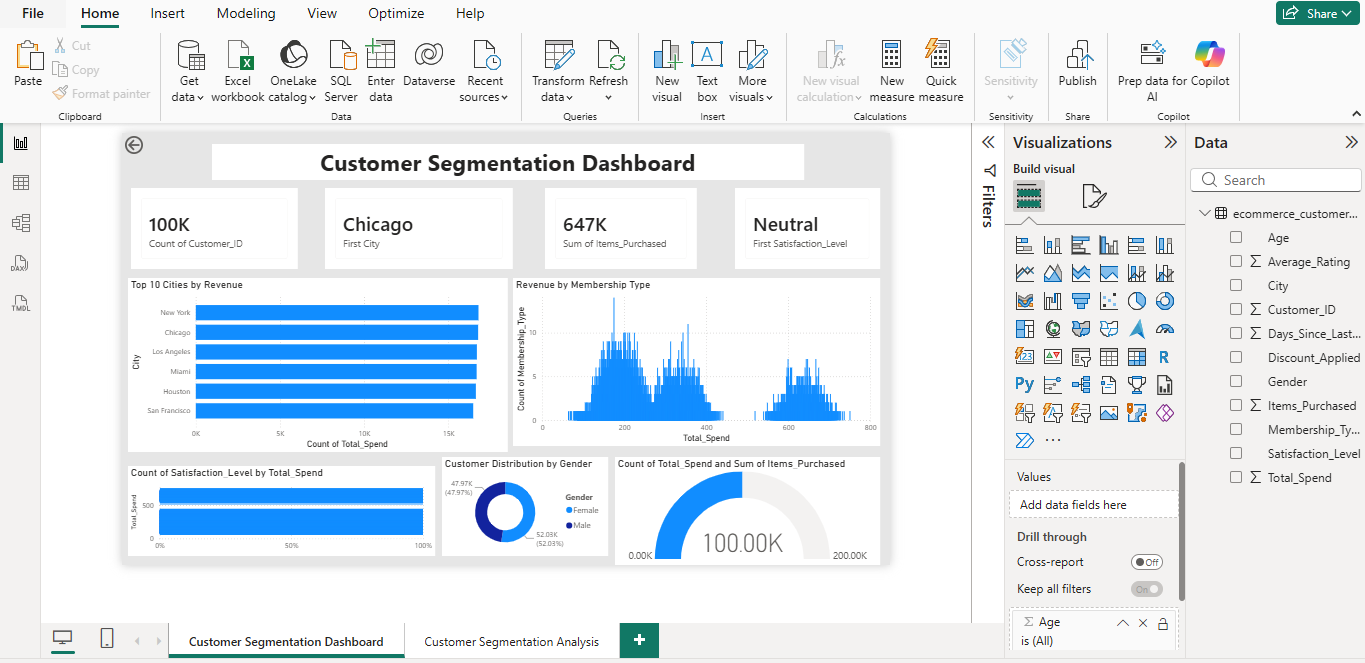

The dashboard page shown, as its layout file describes it:
{"tool":"powerbi","page":{"name":"Customer Segmentation Dashboard","canvas":[1280,720],"ordinal":0},"visuals":[{"type":"lineStackedColumnComboChart","fields":{"Category":["ecommerce_customer_data.Total_Spend"],"Y":["CountNonNull(ecommerce_customer_data.Membership_Type)"]},"box":[651.7,241.7,591.7,280],"z":0},{"type":"donutChart","fields":{"Category":["ecommerce_customer_data.Gender"],"Y":["CountNonNull(ecommerce_customer_data.Total_Spend)"]},"box":[553.3,521.7,268.3,198.3],"z":1},{"type":"barChart","fields":{"Y":["CountNonNull(ecommerce_customer_data.Total_Spend)"],"Category":["ecommerce_customer_data.City"]},"box":[10,251.7,633.3,280],"z":2},{"type":"hundredPercentStackedBarChart","fields":{"Y":["CountNonNull(ecommerce_customer_data.Satisfaction_Level)"],"Category":["ecommerce_customer_data.Total_Spend","ecommerce_customer_data.City"]},"box":[26.7,555,495,150],"z":3},{"type":"textbox","box":[150,18.3,986.7,60],"z":4},{"type":"cardVisual","fields":{"Data":["CountNonNull(ecommerce_customer_data.Customer_ID)"]},"box":[15,91.7,278.3,150],"z":5},{"type":"cardVisual","fields":{"Data":["Sum(ecommerce_customer_data.Items_Purchased)"]},"box":[673.3,91.7,253.3,150],"z":6},{"type":"actionButton","box":[0,0,100,40],"z":7},{"type":"gauge","fields":{"Y":["CountNonNull(ecommerce_customer_data.Total_Spend)"],"TargetValue":["Sum(ecommerce_customer_data.Items_Purchased)"]},"box":[821,522,423,198],"z":8},{"type":"cardVisual","fields":{"Data":["Min(ecommerce_customer_data.City)"]},"box":[326.7,91.7,313.3,150],"z":9},{"type":"cardVisual","fields":{"Data":["Min(ecommerce_customer_data.Satisfaction_Level)"]},"box":[961.7,91.7,241.7,150],"z":10}]}

Visuals, with their boxes on the page's 1280x720 design canvas (x1, y1, x2, y2). These are canvas units, not pixel positions in the 1365x663 screenshot, which may show the page scaled, cropped or inside an application window:
lineStackedColumnComboChart - ecommerce_customer_data.Total_Spend x CountNonNull(ecommerce_customer_data.Membership_Type): region(652, 242, 1243, 522)
donutChart - ecommerce_customer_data.Gender x CountNonNull(ecommerce_customer_data.Total_Spend): region(553, 522, 822, 720)
barChart - CountNonNull(ecommerce_customer_data.Total_Spend) x ecommerce_customer_data.City: region(10, 252, 643, 532)
hundredPercentStackedBarChart - CountNonNull(ecommerce_customer_data.Satisfaction_Level) x ecommerce_customer_data.Total_Spend: region(27, 555, 522, 705)
textbox: region(150, 18, 1137, 78)
cardVisual - CountNonNull(ecommerce_customer_data.Customer_ID): region(15, 92, 293, 242)
cardVisual - Sum(ecommerce_customer_data.Items_Purchased): region(673, 92, 927, 242)
actionButton: region(0, 0, 100, 40)
gauge - CountNonNull(ecommerce_customer_data.Total_Spend) x Sum(ecommerce_customer_data.Items_Purchased): region(821, 522, 1244, 720)
cardVisual - Min(ecommerce_customer_data.City): region(327, 92, 640, 242)
cardVisual - Min(ecommerce_customer_data.Satisfaction_Level): region(962, 92, 1203, 242)
